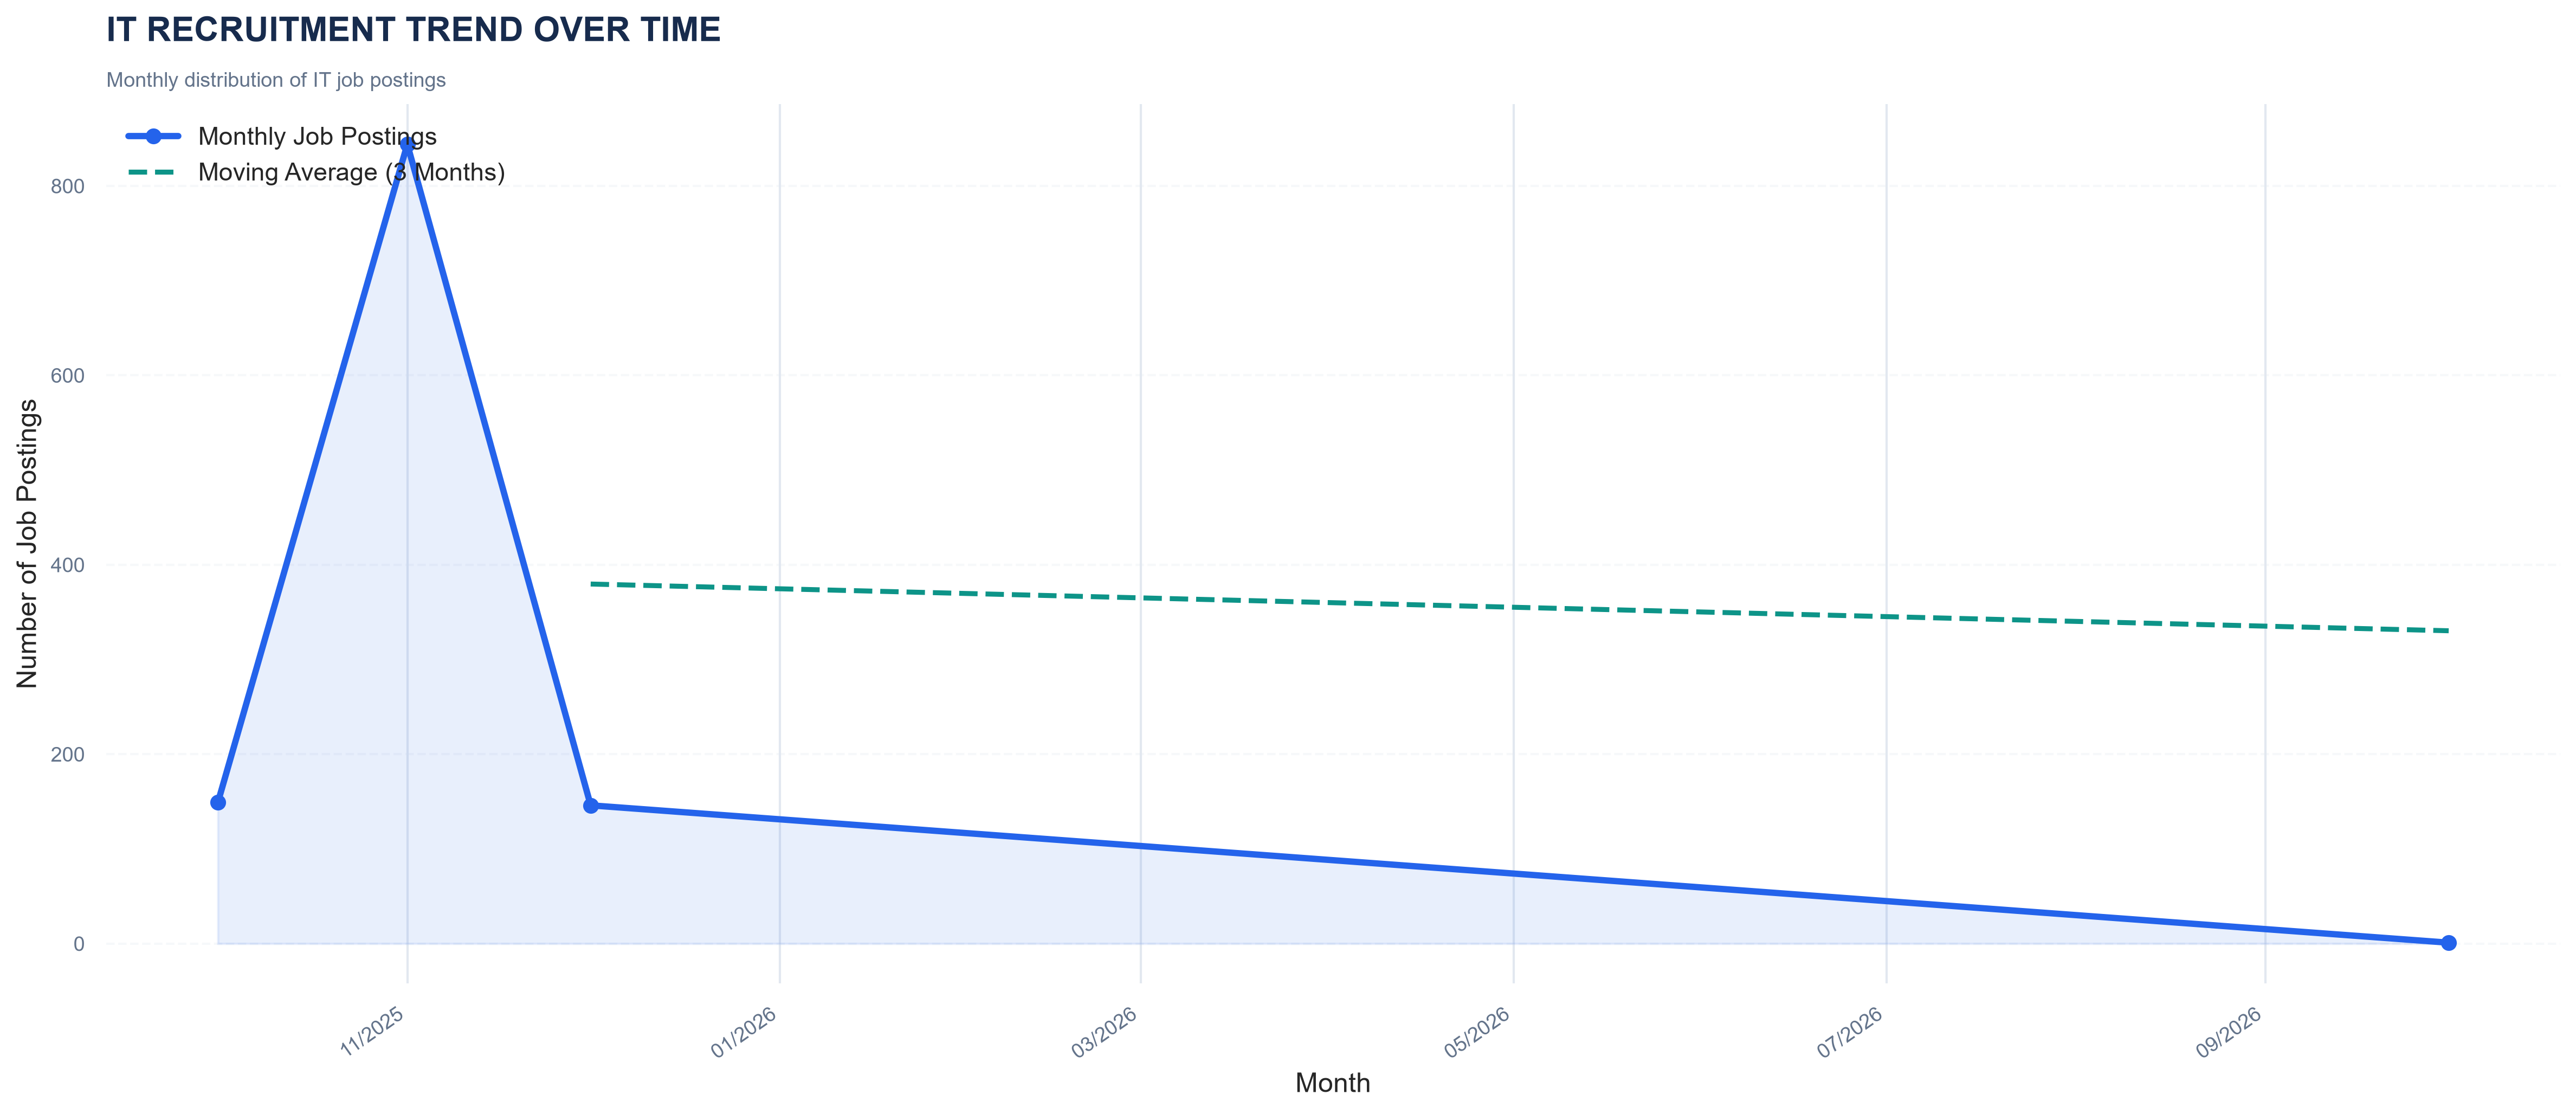

The dashboard page shown, as its layout file describes it:
{"tool":"powerbi","page":{"name":"Xu hướng","canvas":[1280,720],"ordinal":2},"visuals":[{"type":"textbox","box":[325.7,0,630,84.3],"z":0},{"type":"lineChart","fields":{"Y":["fact_job_postings.Total Jobs"],"Category":["dim_date.full_date"]},"box":[0,60,1280,543.3],"z":1000},{"type":"textbox","box":[628.3,623.3,651.7,96.7],"z":2000}]}

Visuals, with their boxes on the page's 1280x720 design canvas (x1, y1, x2, y2). These are canvas units, not pixel positions in the 2576x1114 screenshot, which may show the page scaled, cropped or inside an application window:
textbox: <bbox>326, 0, 956, 84</bbox>
lineChart - fact_job_postings.Total Jobs x dim_date.full_date: <bbox>0, 60, 1280, 603</bbox>
textbox: <bbox>628, 623, 1280, 720</bbox>
